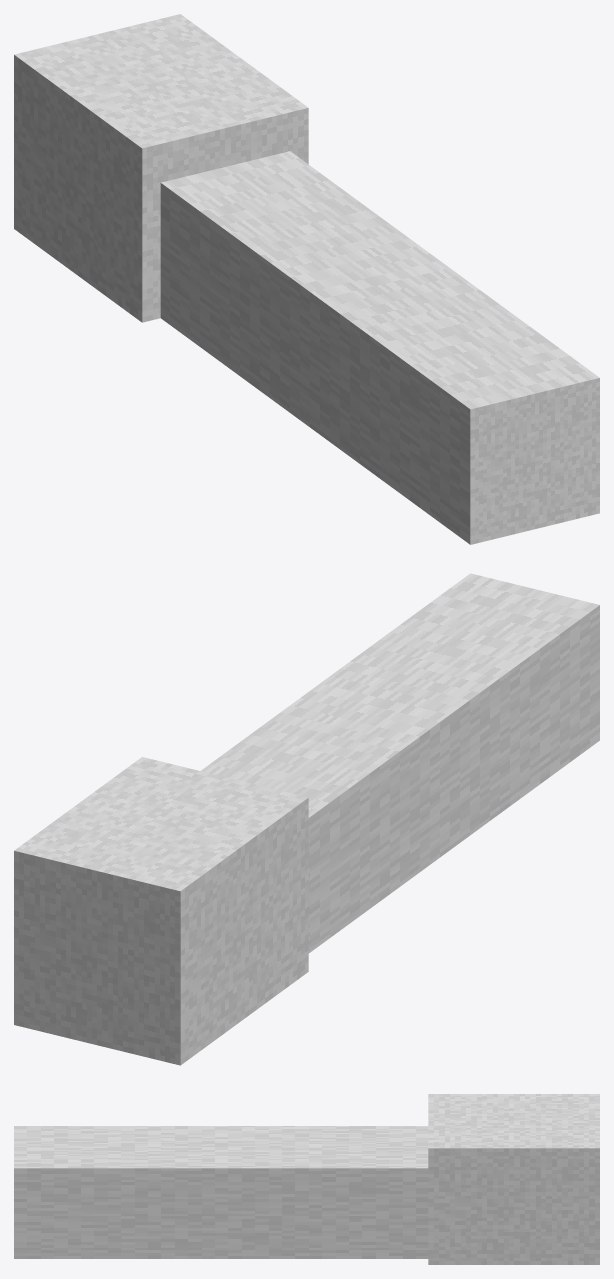
File: daikon.obj
3 renders of one model, top to bottom at view 1: azimuth 30°, elevation 25°; view 2: azimuth 150°, elevation 25°; view 3: azimuth 270°, elevation 25°, orthographic. The views are drawn at different scales.
Parts seen in each view (by area): view 1: part0, part1; view 2: part0, part1; view 3: part0, part1.
Boxes of the visible parts, x1=… form: part0: x1=160, y1=151, x2=599, y2=544; part1: x1=14, y1=14, x2=308, y2=322; part0: x1=201, y1=573, x2=599, y2=953; part1: x1=14, y1=757, x2=308, y2=1065; part0: x1=14, y1=1126, x2=428, y2=1258; part1: x1=428, y1=1094, x2=599, y2=1264.
Size of the model in its own units: 0.09 by 0.09 by 0.41.
2 materials, 2 textured.
